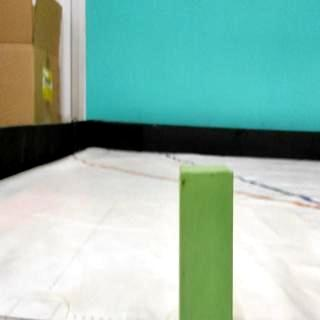greenbox: (178, 165, 235, 320)
